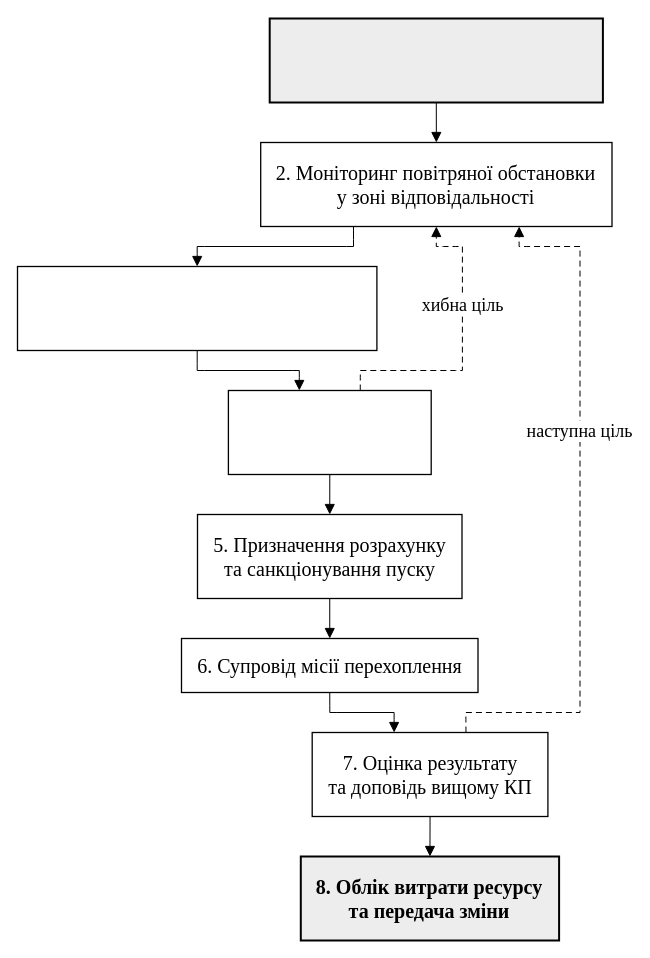
The diagram is 650 pixels wide and 958 high, and some of its shapes have lost their labels. Each missing label, with the box of its shape:
1. Приймання зміни та перевірка готовності сил і засобів: (268, 17, 603, 103)
3. Отримання та верифікація виявлень від сенсорів і спостерігачів: (16, 265, 377, 351)
4. Класифікація цілі та оцінка загрози: (227, 389, 431, 475)
